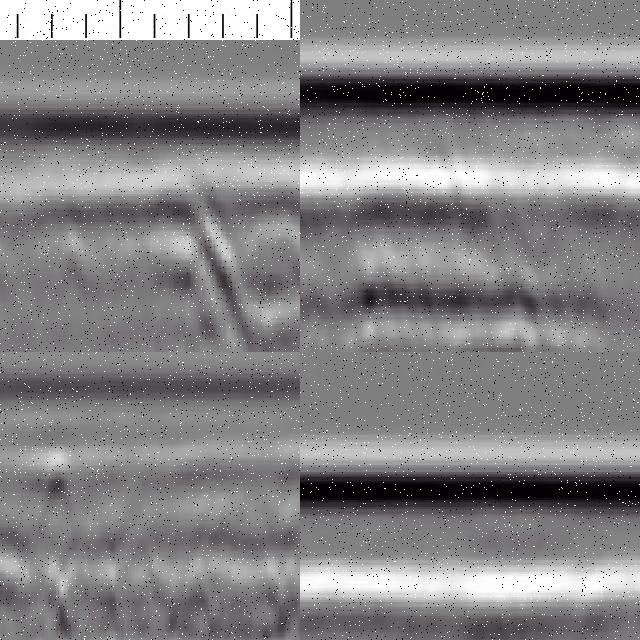crack: (161, 155, 221, 353), (41, 451, 77, 640)
loose: (344, 172, 603, 353), (226, 187, 301, 353)
